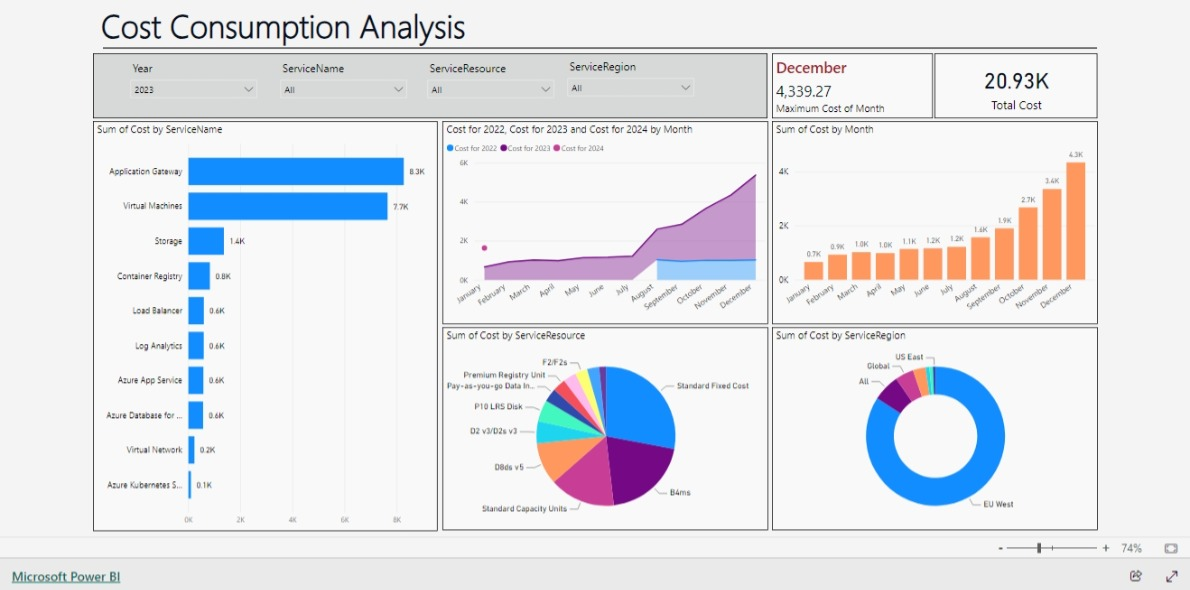

Layout of this report page (visuals, bound fields, positions):
{"tool":"powerbi","page":{"name":"Page 1","canvas":[1503,800],"ordinal":0},"visuals":[{"type":"shape","box":[3.2,79,1006,97],"z":0},{"type":"columnChart","title":"Total Cost by Month","fields":{"Category":["AzureUsage_Workxflow_10-01-2024.Date.Variation.Date Hierarchy.Month"],"Y":["Sum(AzureUsage_Workxflow_10-01-2024.Cost)"]},"box":[1015,180,486,303.4],"z":1000},{"type":"donutChart","title":"Total Cost by ServiceRegion","fields":{"Category":["AzureUsage_Workxflow_10-01-2024.ServiceRegion"],"Y":["Sum(AzureUsage_Workxflow_10-01-2024.Cost)"]},"box":[1015,488,486,303],"z":2000},{"type":"pieChart","title":"Total Cost by ServiceResource","fields":{"Category":["AzureUsage_Workxflow_10-01-2024.ServiceResource"],"Y":["Sum(AzureUsage_Workxflow_10-01-2024.Cost)"]},"box":[523.3,488,486,303],"z":3000},{"type":"clusteredBarChart","title":"total cost by ServiceName","fields":{"Category":["AzureUsage_Workxflow_10-01-2024.ServiceName"],"Y":["Sum(AzureUsage_Workxflow_10-01-2024.Cost)"]},"box":[3,180,514,611],"z":4000},{"type":"card","fields":{"Values":["Sum(AzureUsage_Workxflow_10-01-2024.Cost)"]},"box":[1258.3,79,242.7,97],"z":5000},{"type":"slicer","fields":{"Values":["AzureUsage_Workxflow_10-01-2024.ServiceName"]},"box":[417,85.7,193.9,87.3],"z":6000},{"type":"slicer","fields":{"Values":["AzureUsage_Workxflow_10-01-2024.ServiceResource"]},"box":[610.9,85.7,192.3,87.3],"z":7000},{"type":"slicer","fields":{"Values":["AzureUsage_Workxflow_10-01-2024.ServiceRegion"]},"box":[803.2,85.7,193.9,87.3],"z":8000},{"type":"slicer","fields":{"Values":["AzureUsage_Workxflow_10-01-2024.Date.Variation.Date Hierarchy.Year"]},"box":[17.6,86.2,193,86.2],"z":9000},{"type":"multiRowCard","fields":{"Values":["AzureUsage_Workxflow_10-01-2024.Date.Variation.Date Hierarchy.Month","Sum(AzureUsage_Workxflow_10-01-2024.Cost)"]},"box":[1015.6,79.8,239.5,97.4],"z":10000},{"type":"stackedAreaChart","title":"Cost Comparison by Year","fields":{"Category":["AzureUsage_Workxflow_10-01-2024.Date.Variation.Date Hierarchy.Month"],"Y":["AzureUsage_Workxflow_10-01-2024.Cost for 2022","AzureUsage_Workxflow_10-01-2024.Cost for 2023","AzureUsage_Workxflow_10-01-2024.Cost for 2024"]},"box":[523.3,180,486,303.3],"z":11000},{"type":"shape","box":[17.6,19,1483.4,105.4],"z":12000},{"type":"textbox","box":[9.6,0,811.2,83],"z":13000},{"type":"slicer","fields":{"Values":["AzureUsage_Workxflow_10-01-2024.Date.Variation.Date Hierarchy.Month"]},"box":[221.4,85.7,193.9,87.3],"z":13001}]}

Visuals, with their boxes on the page's 1503x800 design canvas (x1, y1, x2, y2). These are canvas units, not pixel positions in the 1190x590 screenshot, which may show the page scaled, cropped or inside an application window:
shape: (x1=3, y1=79, x2=1009, y2=176)
"Total Cost by Month" columnChart: (x1=1015, y1=180, x2=1501, y2=483)
"Total Cost by ServiceRegion" donutChart: (x1=1015, y1=488, x2=1501, y2=791)
"Total Cost by ServiceResource" pieChart: (x1=523, y1=488, x2=1009, y2=791)
"total cost by ServiceName" clusteredBarChart: (x1=3, y1=180, x2=517, y2=791)
card - Sum(AzureUsage_Workxflow_10-01-2024.Cost): (x1=1258, y1=79, x2=1501, y2=176)
slicer - AzureUsage_Workxflow_10-01-2024.ServiceName: (x1=417, y1=86, x2=611, y2=173)
slicer - AzureUsage_Workxflow_10-01-2024.ServiceResource: (x1=611, y1=86, x2=803, y2=173)
slicer - AzureUsage_Workxflow_10-01-2024.ServiceRegion: (x1=803, y1=86, x2=997, y2=173)
slicer - AzureUsage_Workxflow_10-01-2024.Date.Variation.Date Hierarchy.Year: (x1=18, y1=86, x2=211, y2=172)
multiRowCard - AzureUsage_Workxflow_10-01-2024.Date.Variation.Date Hierarchy.Month x Sum(AzureUsage_Workxflow_10-01-2024.Cost): (x1=1016, y1=80, x2=1255, y2=177)
"Cost Comparison by Year" stackedAreaChart: (x1=523, y1=180, x2=1009, y2=483)
shape: (x1=18, y1=19, x2=1501, y2=124)
textbox: (x1=10, y1=0, x2=821, y2=83)
slicer - AzureUsage_Workxflow_10-01-2024.Date.Variation.Date Hierarchy.Month: (x1=221, y1=86, x2=415, y2=173)
